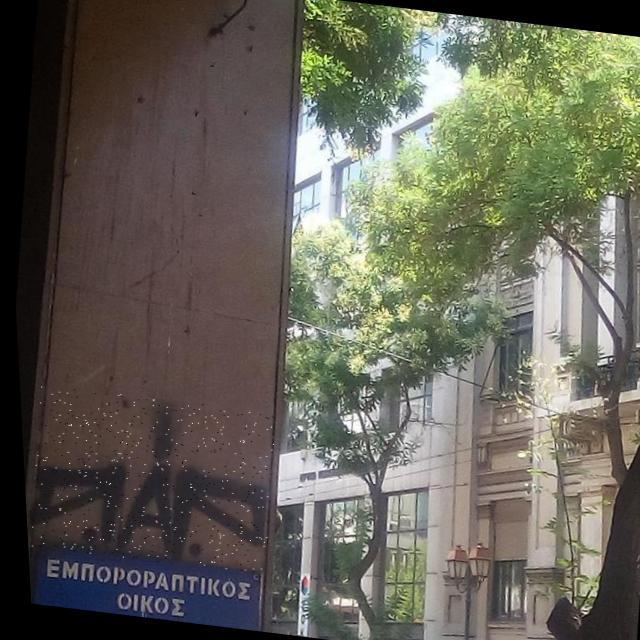-: (16, 384, 278, 574)
